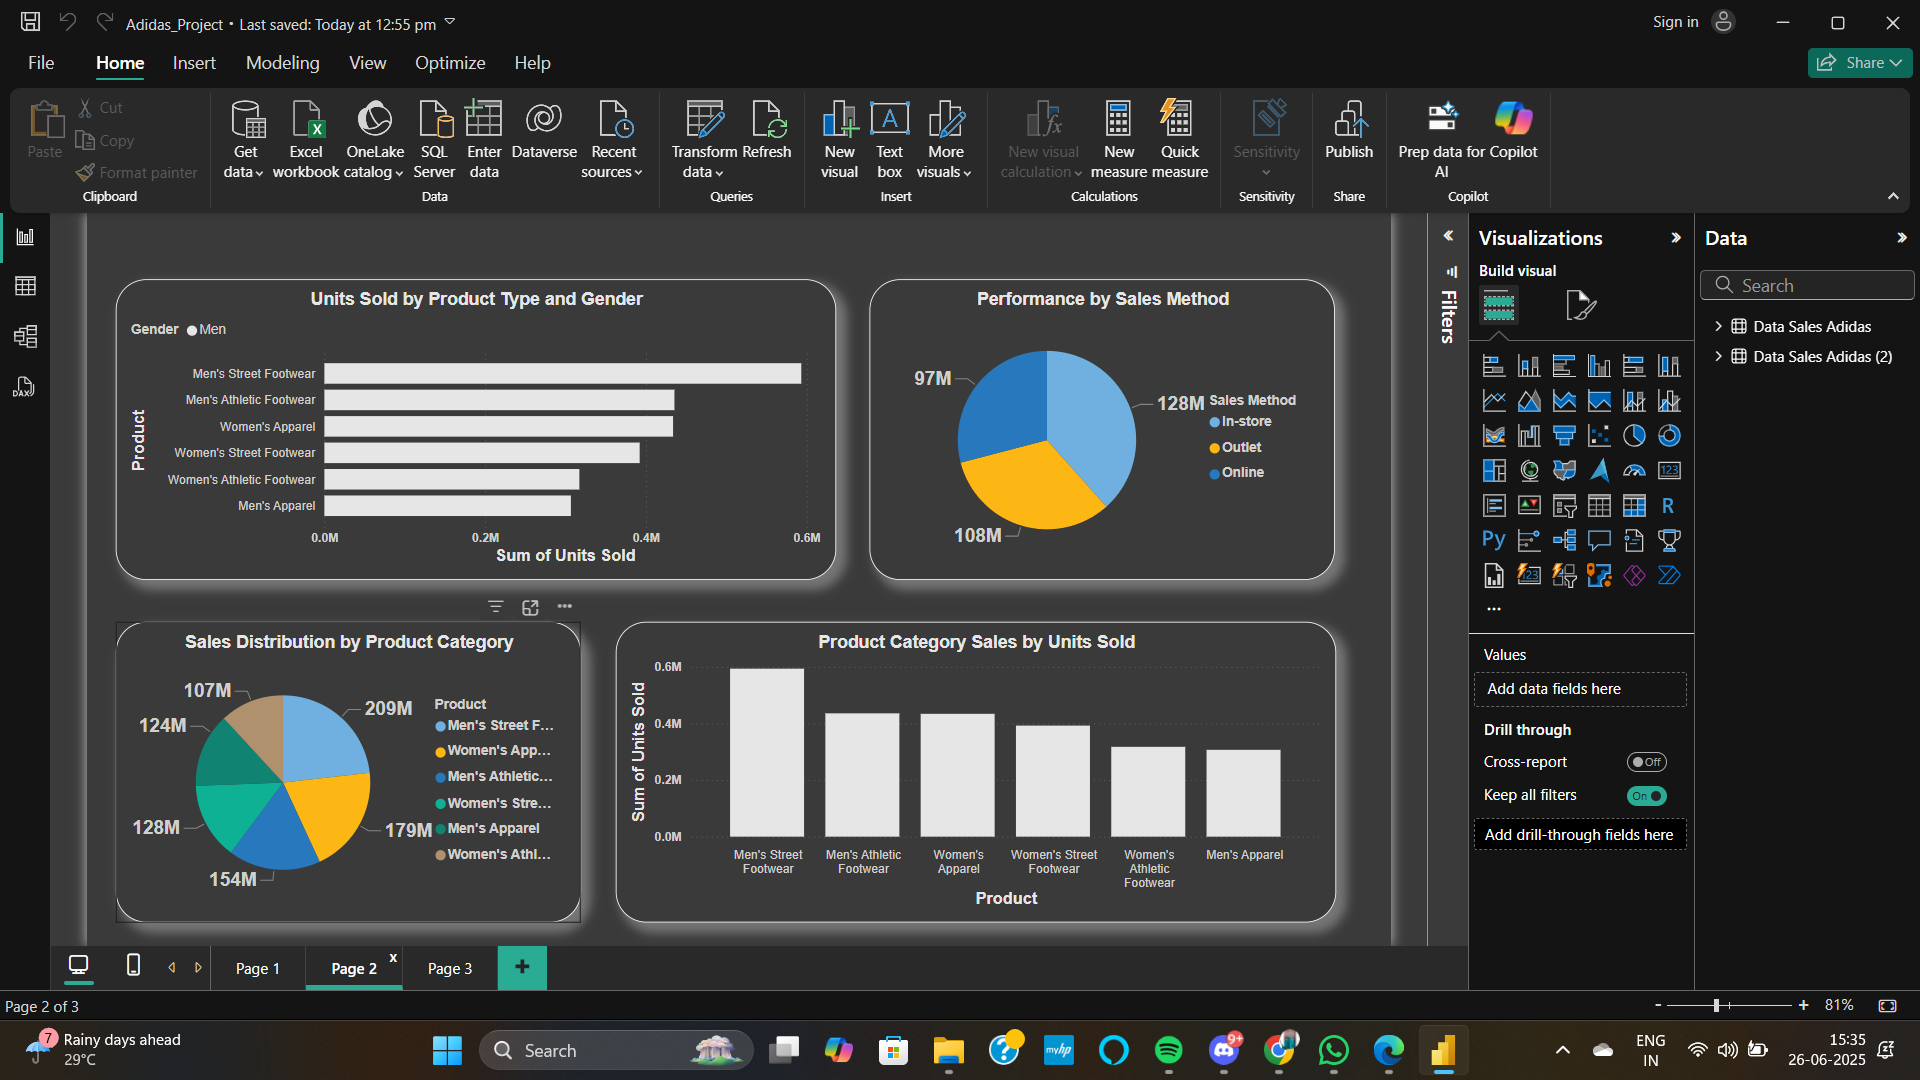

The dashboard page shown, as its layout file describes it:
{"tool":"powerbi","page":{"name":"Page 2","canvas":[1280,720],"ordinal":1},"visuals":[{"type":"pieChart","title":"Sales Distribution by Product Category","fields":{"Category":["Data Sales Adidas (2).Product"],"Y":["Sum(Data Sales Adidas (2).Total Sales)"]},"box":[27.9,401.2,457,295.3],"z":0},{"type":"columnChart","title":"Product Category Sales by Units Sold","fields":{"Category":["Data Sales Adidas (2).Product"],"Y":["Sum(Data Sales Adidas (2).Units Sold)"]},"box":[518.6,401.2,707,295.3],"z":1000},{"type":"clusteredBarChart","title":"Units Sold by Product Type and Gender","fields":{"Category":["Data Sales Adidas (2).Product"],"Y":["Sum(Data Sales Adidas (2).Units Sold)"],"Series":["Data Sales Adidas (2).Gender"]},"box":[27.9,65.1,707,295.3],"z":2000},{"type":"pieChart","title":"Performance by Sales Method","fields":{"Category":["Data Sales Adidas (2).Sales Method"],"Y":["Sum(Data Sales Adidas (2).Operating Profit)"]},"box":[768.6,65.1,457,295.3],"z":3000}]}

Visuals, with their boxes on the page's 1280x720 design canvas (x1, y1, x2, y2). These are canvas units, not pixel positions in the 1920x1080 screenshot, which may show the page scaled, cropped or inside an application window:
"Sales Distribution by Product Category" pieChart: (28, 401, 485, 696)
"Product Category Sales by Units Sold" columnChart: (519, 401, 1226, 696)
"Units Sold by Product Type and Gender" clusteredBarChart: (28, 65, 735, 360)
"Performance by Sales Method" pieChart: (769, 65, 1226, 360)
